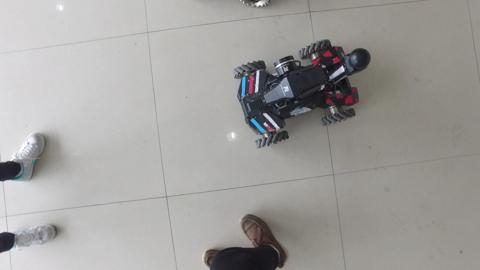chariot: (230, 35, 373, 151)
